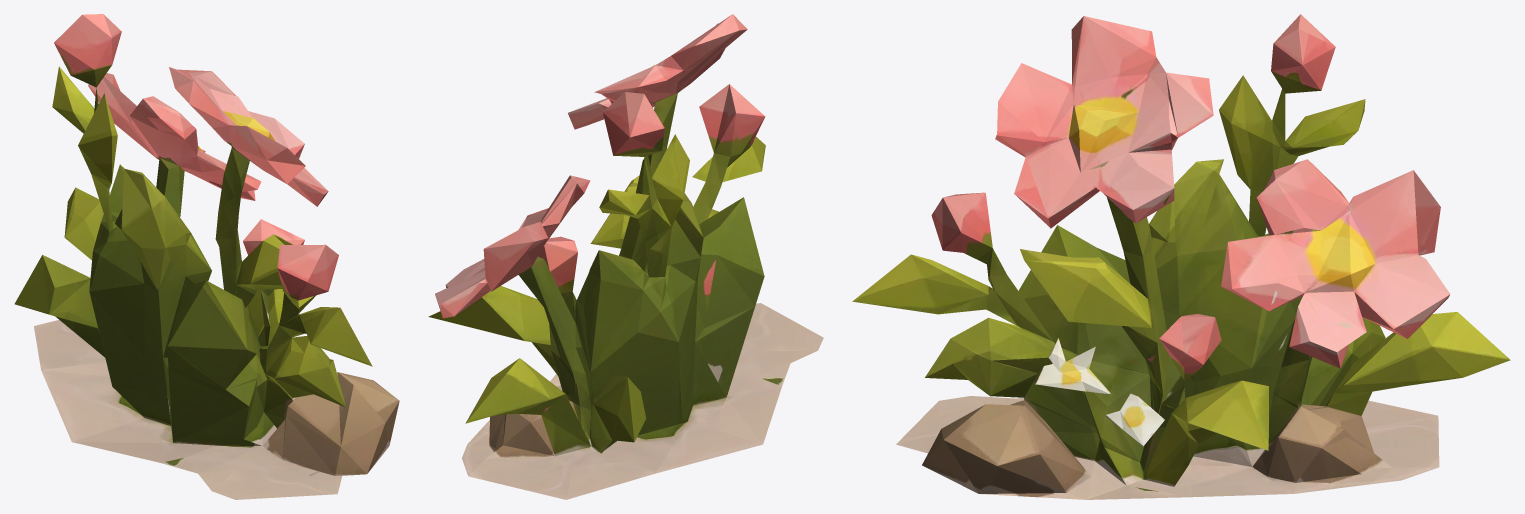
The model's file is KeepSakeFlowerV2-v1.glb.
3 views of the same model, side by side, from view 1: azimuth 30°, elevation 25°; view 2: azimuth 150°, elevation 25°; view 3: azimuth 270°, elevation 25° (orthographic). The views are drawn at different scales.
Parts seen in each view (by area): view 1: tripo_node_92fe941e-f2a3-4c5b-9398-3975cbfef7ef; view 2: tripo_node_92fe941e-f2a3-4c5b-9398-3975cbfef7ef; view 3: tripo_node_92fe941e-f2a3-4c5b-9398-3975cbfef7ef.
Part boxes in pixels (x1,y1,x2,y2): tripo_node_92fe941e-f2a3-4c5b-9398-3975cbfef7ef: (14,14,399,499); tripo_node_92fe941e-f2a3-4c5b-9398-3975cbfef7ef: (428,14,823,499); tripo_node_92fe941e-f2a3-4c5b-9398-3975cbfef7ef: (852,14,1510,499).
Size of the model in its own units: 0.552 by 0.6748 by 0.9815.
1 material, 1 textured.
